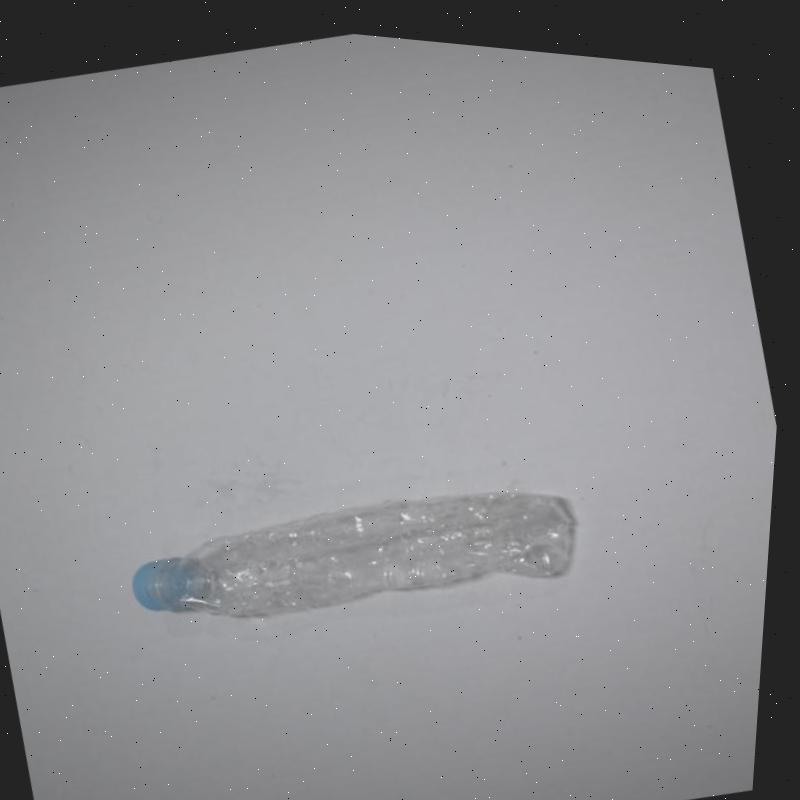botella: (118, 424, 595, 671)
